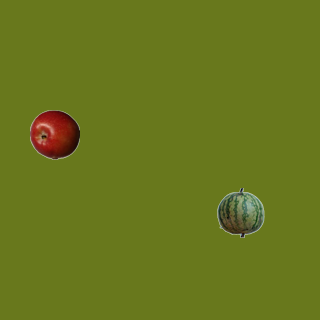Apple Braeburn: (29, 109, 79, 159)
Watermelon: (215, 187, 265, 237)
